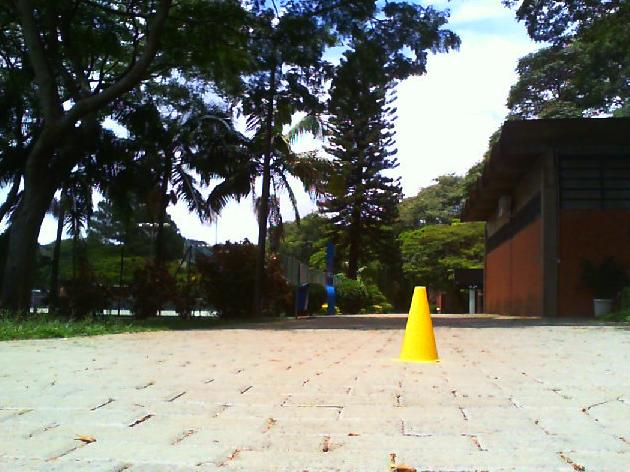0 cone: (394, 286, 440, 363)
